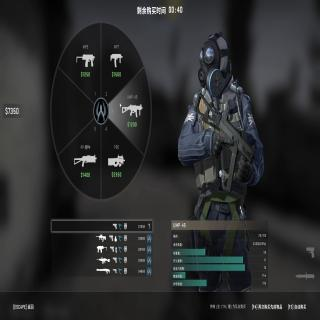CT-Body: (178, 32, 264, 218)
CT-Head: (197, 33, 228, 92)
